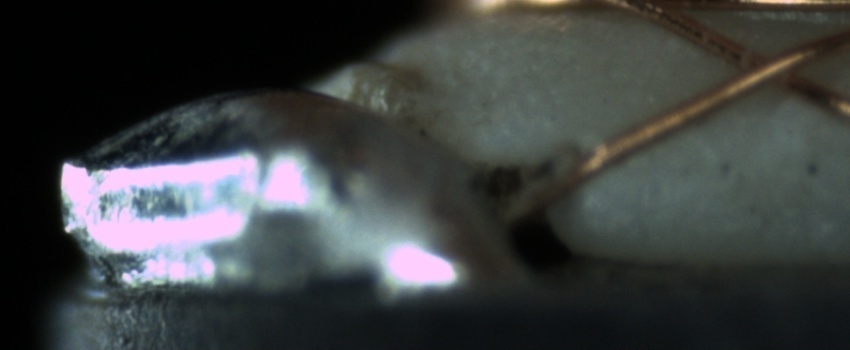CL: (718, 38, 824, 101)
